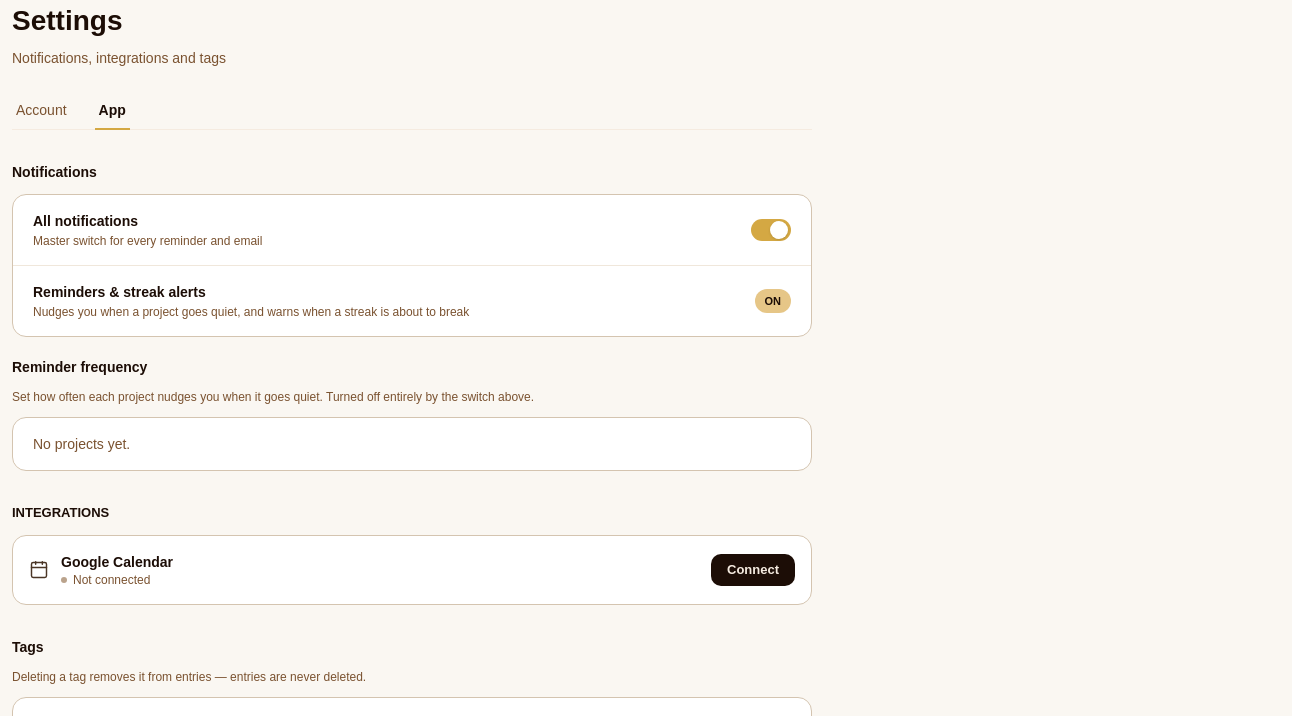
Test: Google Calendar settings › surfaces an error if the connect request itself fails
Click the button with aria-label "connect google calendar": (753, 570) [711,554,795,586]
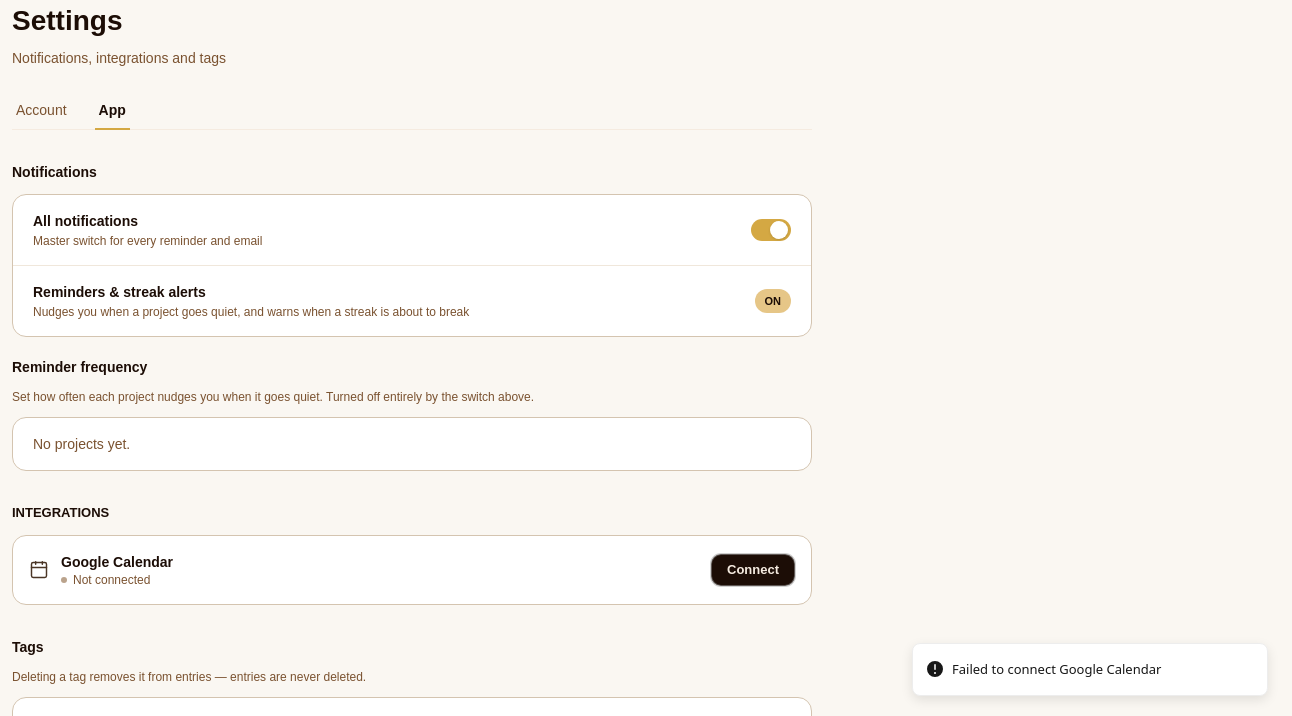
Result: the text "Failed to connect Google Calendar" is shown at [952,660,1161,679]
